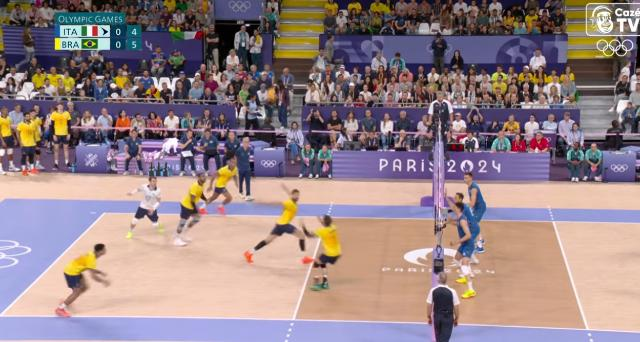Levantador: (300, 214, 342, 292), (463, 171, 485, 221)
Libero: (126, 174, 166, 239)
bola: (264, 86, 278, 101)
